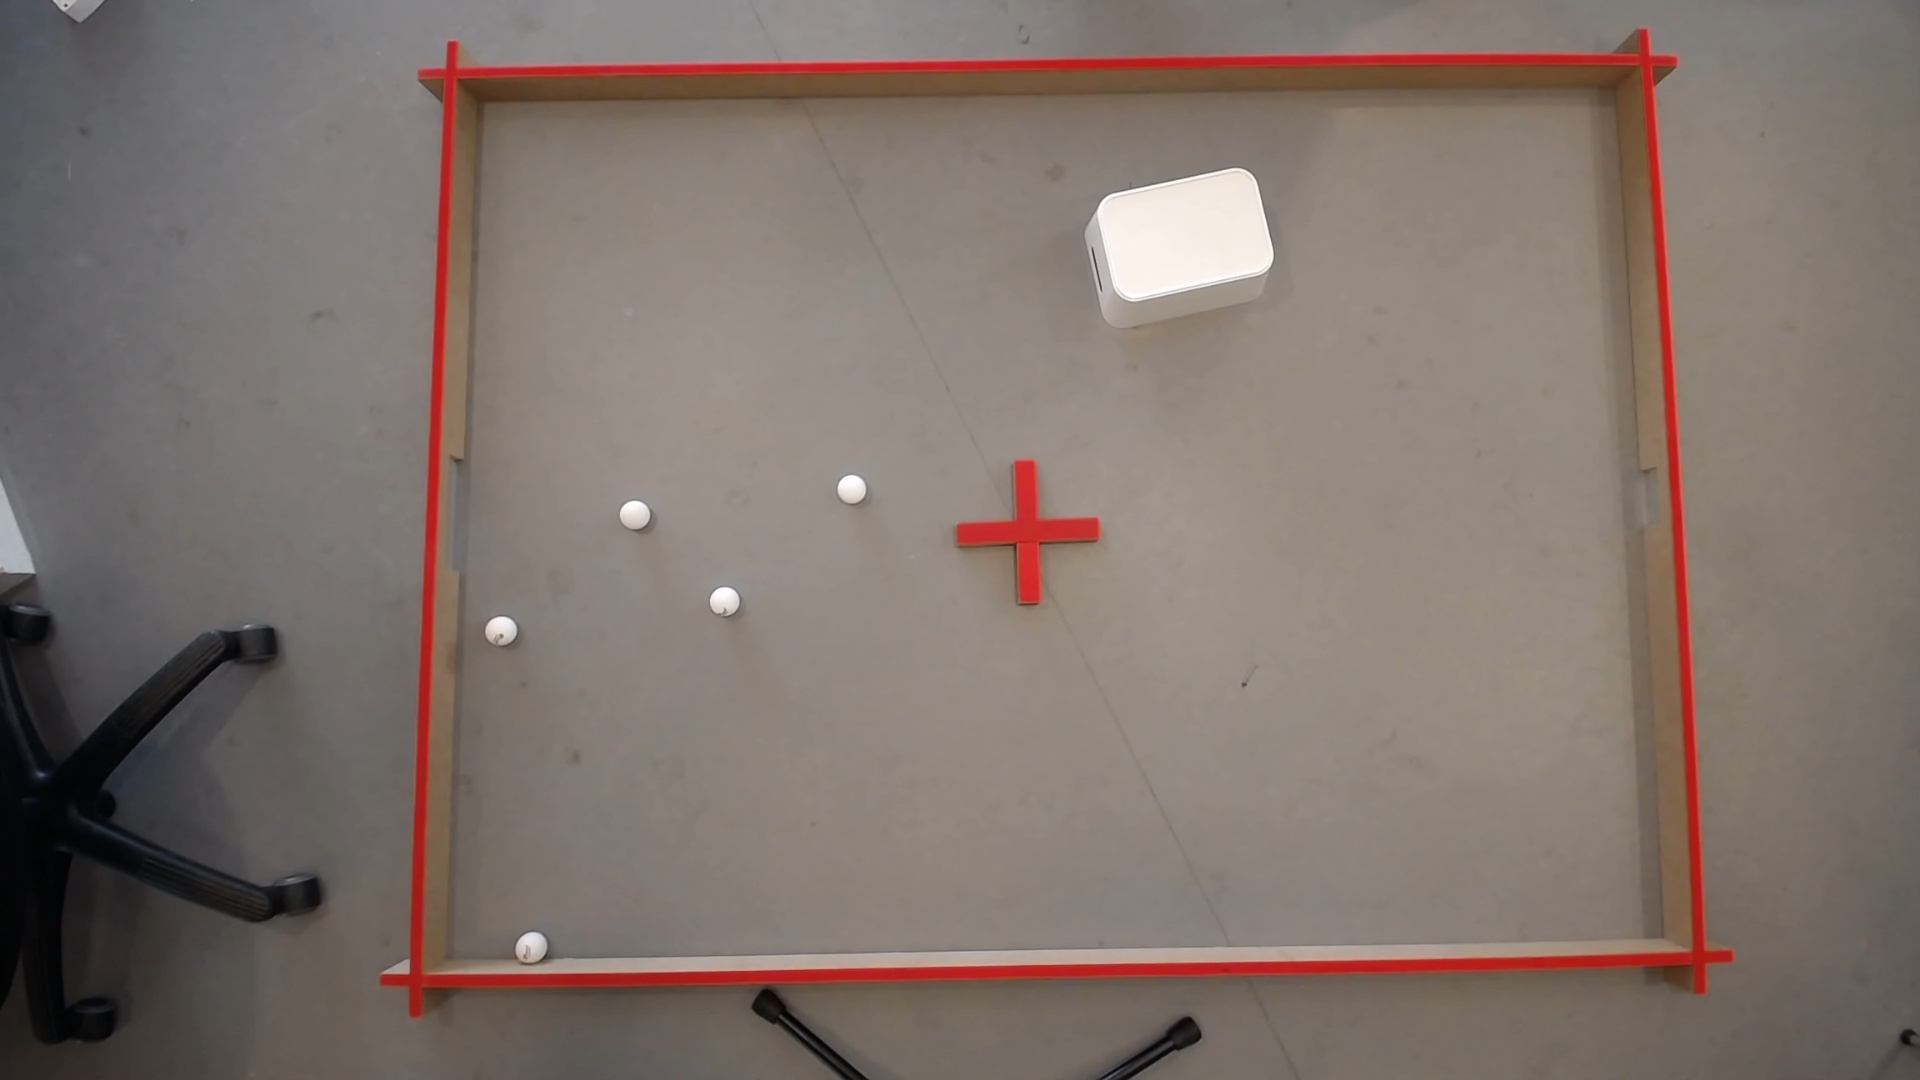balls: (1092, 161, 1278, 305), (616, 495, 653, 529), (707, 584, 740, 613), (484, 612, 517, 640), (837, 473, 865, 500)
car: (513, 926, 546, 960)
